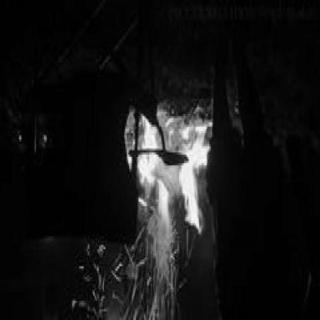Fire: (109, 98, 235, 294)
